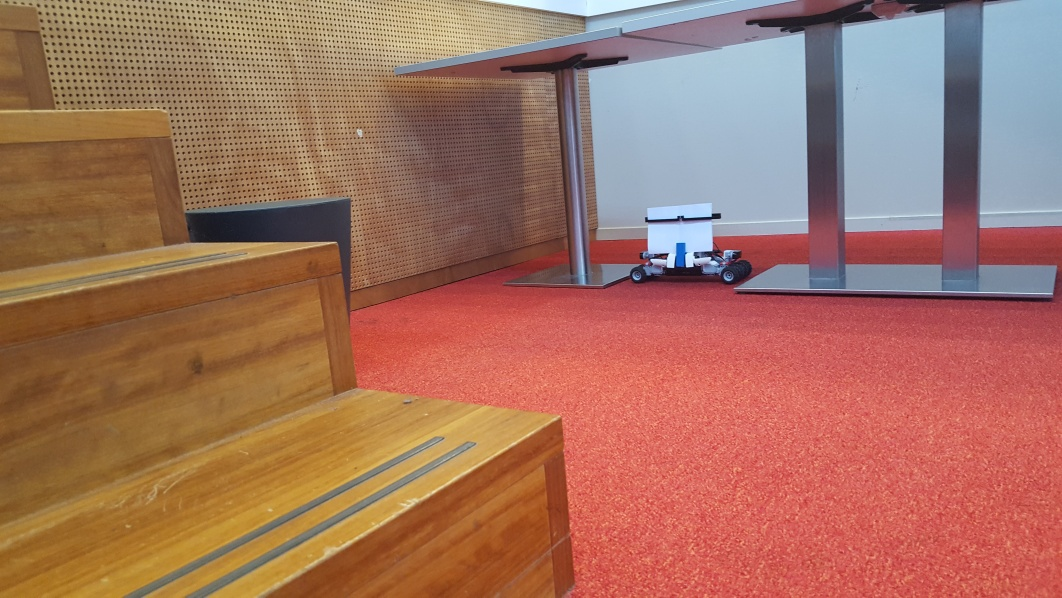car: (629, 200, 754, 288)
